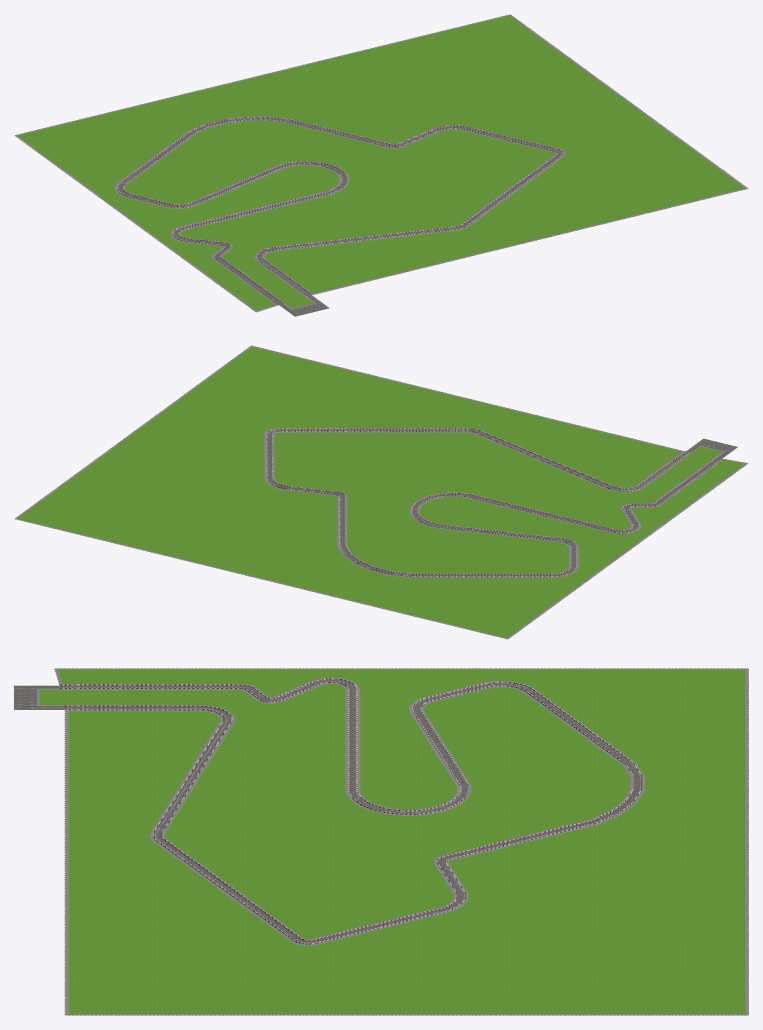
File: track01.dae
3 views of the same model, one above another, from view 1: azimuth 30°, elevation 25°; view 2: azimuth 150°, elevation 25°; view 3: azimuth 270°, elevation 25° (orthographic). The views are drawn at different scales.
Parts seen in each view (by area): view 1: SketchUp (×9); view 2: SketchUp (×10); view 3: SketchUp (×12).
Part boxes in pixels (box(x1,y1,x2,y2)): SketchUp (×9): box(15, 14, 747, 316); SketchUp (×10): box(15, 345, 748, 639); SketchUp (×12): box(14, 668, 748, 1015).
Size of the model in its own units: 19665 by 17570 by 27.56.
5 materials, 5 textured.
